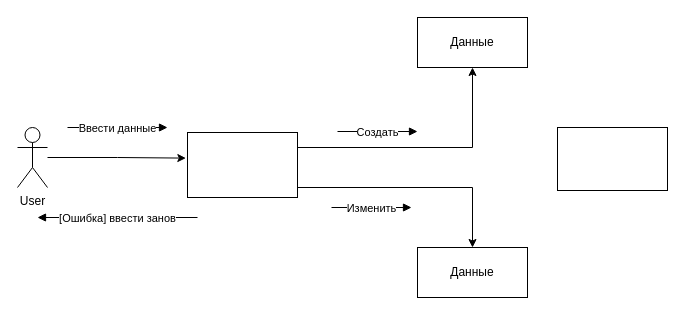
Some shapes in this 685 by 315 pixel diagram are drawn without their labels. Each missing label, with the centre of its shape:
Cистема: (x=242, y=165)
Обновление/Создание персональных данных: (x=612, y=158)
